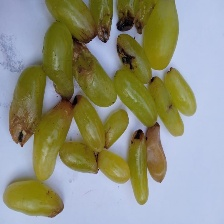grapes: (36, 40, 211, 182)
